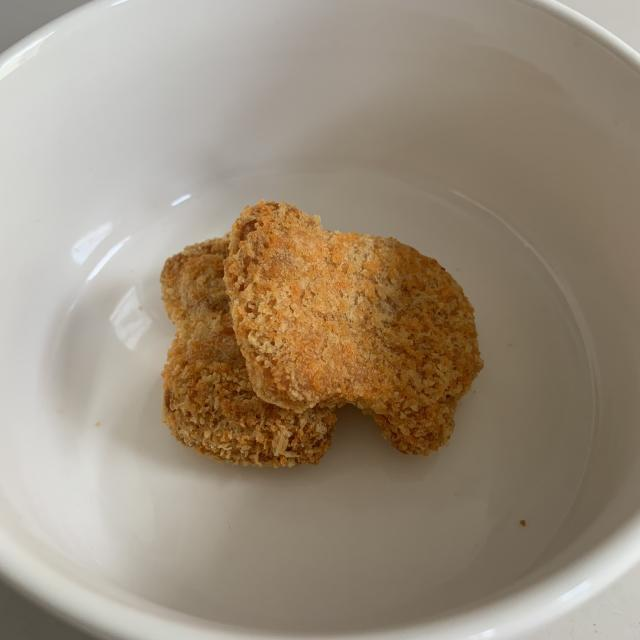Frango: (234, 187, 484, 452), (151, 234, 338, 463)
